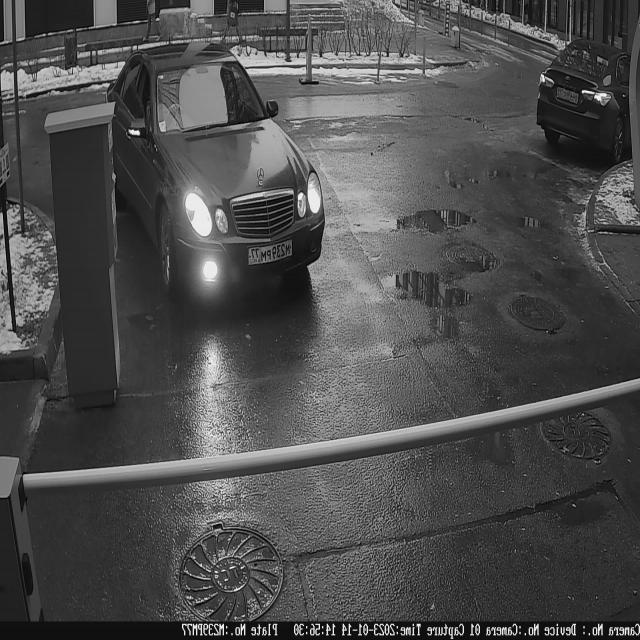car-plate-numbers: (245, 235, 296, 272)
